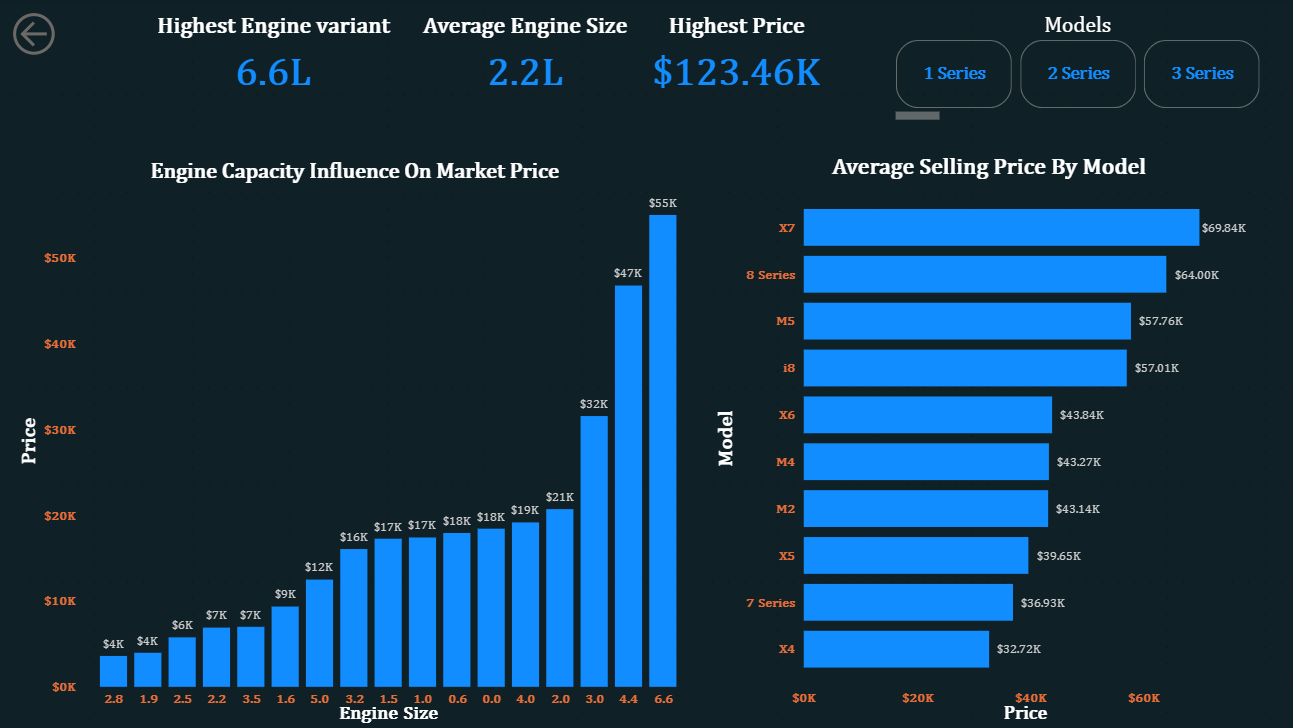

Layout of this report page (visuals, bound fields, positions):
{"tool":"powerbi","page":{"name":"Chart Page","canvas":[1280,720],"ordinal":1},"visuals":[{"type":"clusteredColumnChart","title":"Engine Capacity Influence On Market Price ","fields":{"Category":["bmw.Engine Size"],"Y":["bmw.Average Price"]},"box":[16,160,672,560],"z":0},{"type":"barChart","title":"Average Selling Price By Model","fields":{"Category":["bmw.model"],"Y":["bmw.Average Price"]},"box":[701.5,155.1,550.2,564.9],"z":1000},{"type":"actionButton","box":[9.8,9.8,67.5,58.9],"z":2000},{"type":"cardVisual","title":"Highest Engine variant","fields":{"Data":["bmw.Max Engine Size"]},"box":[144,16,256,96],"z":3000},{"type":"cardVisual","title":"Average Engine Size ","fields":{"Data":["bmw.Average Engine Size"]},"box":[400,16,240,96],"z":4000},{"type":"cardVisual","title":"Highest Price  ","fields":{"Data":["bmw.Max Price"]},"box":[592,16,272,96],"z":5000},{"type":"advancedSlicerVisual","title":"Models","fields":{"Values":["bmw.model"]},"box":[880,16,368,112],"z":6000}]}

Visuals, with their boxes in screenshot pixels (x1, y1, x2, y2), scaled from the page's 1280x720 canvas onto the 1293x728 screenshot:
"Engine Capacity Influence On Market Price " clusteredColumnChart: 16/162/695/727
"Average Selling Price By Model" barChart: 709/157/1264/727
actionButton: 10/10/78/69
"Highest Engine variant" cardVisual: 145/16/404/113
"Average Engine Size " cardVisual: 404/16/646/113
"Highest Price  " cardVisual: 598/16/873/113
"Models" advancedSlicerVisual: 889/16/1261/129
